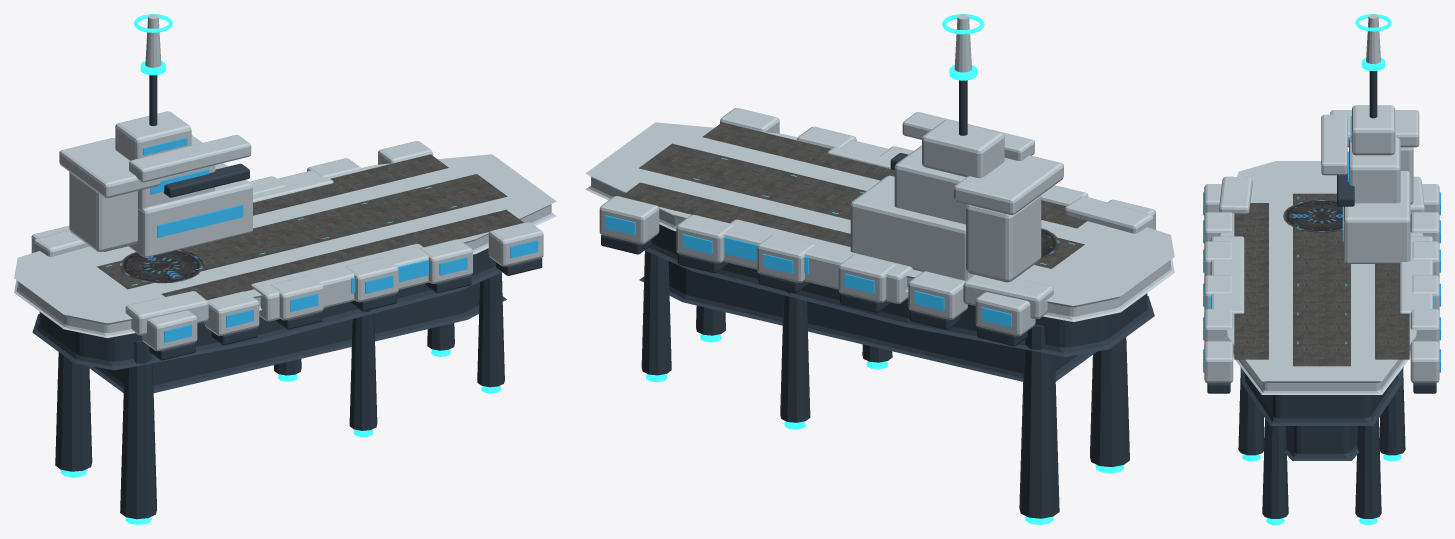
File: vanguard-ozone-base-v2-lod1.glb
3 views of the same model, side by side, from view 1: azimuth 30°, elevation 25°; view 2: azimuth 150°, elevation 25°; view 3: azimuth 270°, elevation 25° (orthographic). The views are drawn at different scales.
Visible parts, largest first — view 1: vanguard_ozone_base_v2__lod1__Vanguard orbital armor, vanguard_ozone_base_v2__lod1__Vanguard structural shadow, vanguard_ozone_base_v2__lod1__Vanguard tiled flight deck, vanguard_ozone_base_v2__lod1__Vanguard recessed glazing, vanguard_ozone_base_v2__lod1__Vanguard tactical mesh overlay, vanguard_ozone_base_v2__lod1__Vanguard emissive guidance; view 2: vanguard_ozone_base_v2__lod1__Vanguard orbital armor, vanguard_ozone_base_v2__lod1__Vanguard structural shadow, vanguard_ozone_base_v2__lod1__Vanguard tiled flight deck, vanguard_ozone_base_v2__lod1__Vanguard recessed glazing, vanguard_ozone_base_v2__lod1__Vanguard emissive guidance; view 3: vanguard_ozone_base_v2__lod1__Vanguard orbital armor, vanguard_ozone_base_v2__lod1__Vanguard structural shadow, vanguard_ozone_base_v2__lod1__Vanguard tiled flight deck, vanguard_ozone_base_v2__lod1__Vanguard tactical mesh overlay, vanguard_ozone_base_v2__lod1__Vanguard emissive guidance, vanguard_ozone_base_v2__lod1__Vanguard recessed glazing.
Boxes of the visible parts, x1=… form: vanguard_ozone_base_v2__lod1__Vanguard orbital armor: x1=14, y1=14, x2=556, y2=351; vanguard_ozone_base_v2__lod1__Vanguard structural shadow: x1=32, y1=75, x2=542, y2=519; vanguard_ozone_base_v2__lod1__Vanguard tiled flight deck: x1=97, y1=154, x2=523, y2=300; vanguard_ozone_base_v2__lod1__Vanguard recessed glazing: x1=143, y1=137, x2=538, y2=342; vanguard_ozone_base_v2__lod1__Vanguard tactical mesh overlay: x1=120, y1=250, x2=203, y2=283; vanguard_ozone_base_v2__lod1__Vanguard emissive guidance: x1=60, y1=14, x2=500, y2=524; vanguard_ozone_base_v2__lod1__Vanguard orbital armor: x1=585, y1=14, x2=1174, y2=336; vanguard_ozone_base_v2__lod1__Vanguard structural shadow: x1=601, y1=80, x2=1154, y2=518; vanguard_ozone_base_v2__lod1__Vanguard tiled flight deck: x1=621, y1=122, x2=1087, y2=268; vanguard_ozone_base_v2__lod1__Vanguard recessed glazing: x1=605, y1=215, x2=1011, y2=327; vanguard_ozone_base_v2__lod1__Vanguard emissive guidance: x1=646, y1=14, x2=1124, y2=524; vanguard_ozone_base_v2__lod1__Vanguard orbital armor: x1=1204, y1=14, x2=1439, y2=394; vanguard_ozone_base_v2__lod1__Vanguard structural shadow: x1=1207, y1=71, x2=1436, y2=518; vanguard_ozone_base_v2__lod1__Vanguard tiled flight deck: x1=1234, y1=193, x2=1409, y2=366; vanguard_ozone_base_v2__lod1__Vanguard tactical mesh overlay: x1=1283, y1=199, x2=1342, y2=232; vanguard_ozone_base_v2__lod1__Vanguard emissive guidance: x1=1242, y1=14, x2=1401, y2=524; vanguard_ozone_base_v2__lod1__Vanguard recessed glazing: x1=1203, y1=116, x2=1440, y2=372.
Size of the model in its own units: 830 by 719 by 378.
Materials: 6 (2 with a texture image).
